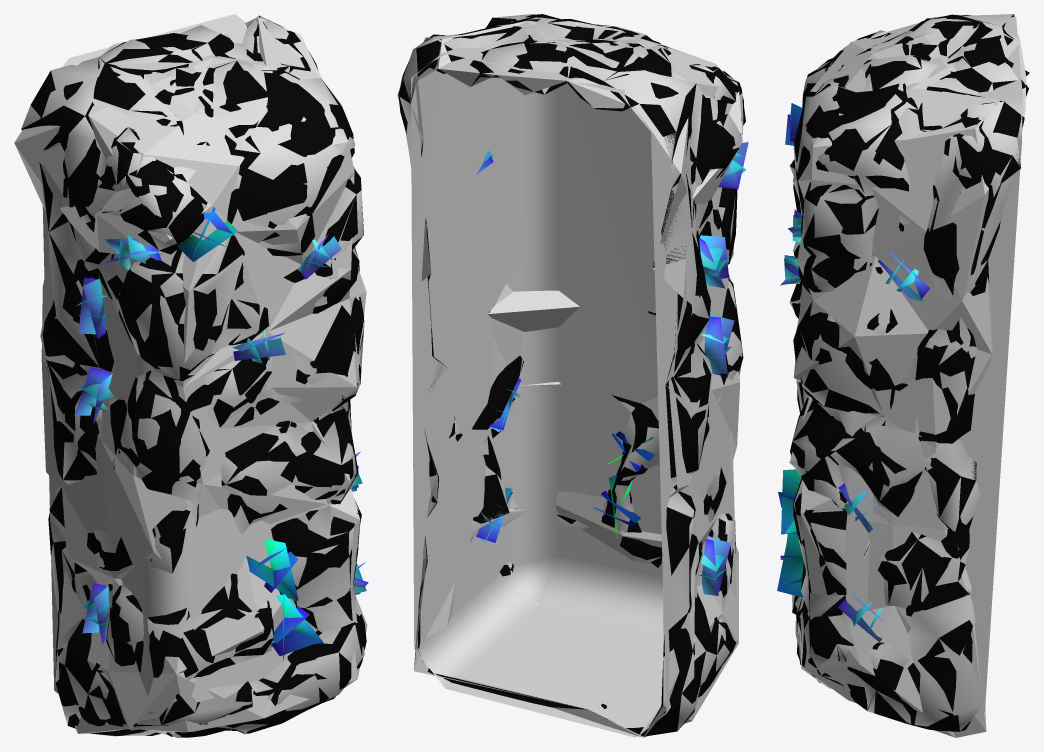
Rendered from italy_rockface_tall_narrow.dae.
3 renders of one model, left to right at view 1: azimuth 30°, elevation 25°; view 2: azimuth 150°, elevation 25°; view 3: azimuth 270°, elevation 25°, orthographic. The views are drawn at different scales.
Visible parts, largest first — view 1: italy_rockface_tall_narrow_a800, italy_rockface_tall_narrow_a80, italy_rockface_tall_narrow_a150, italy_rockface_tall_narrow_a50; view 2: italy_rockface_tall_narrow_a50, italy_rockface_tall_narrow_a800, italy_rockface_tall_narrow_a80, italy_rockface_tall_narrow_a150; view 3: italy_rockface_tall_narrow_a800, italy_rockface_tall_narrow_a80, italy_rockface_tall_narrow_a150, italy_rockface_tall_narrow_a50.
Part boxes in pixels (box(x1,y1,x2,y2)): italy_rockface_tall_narrow_a800: box(21, 15, 368, 737); italy_rockface_tall_narrow_a80: box(14, 17, 367, 733); italy_rockface_tall_narrow_a150: box(21, 16, 364, 737); italy_rockface_tall_narrow_a50: box(42, 14, 355, 734); italy_rockface_tall_narrow_a50: box(411, 47, 736, 737); italy_rockface_tall_narrow_a800: box(398, 14, 748, 736); italy_rockface_tall_narrow_a80: box(405, 20, 743, 737); italy_rockface_tall_narrow_a150: box(397, 14, 743, 730); italy_rockface_tall_narrow_a800: box(777, 14, 1029, 731); italy_rockface_tall_narrow_a80: box(789, 22, 1026, 737); italy_rockface_tall_narrow_a150: box(789, 14, 1027, 731); italy_rockface_tall_narrow_a50: box(801, 16, 1022, 711).
Size of the model in its own units: 6.01 by 4.64 by 12.89.
